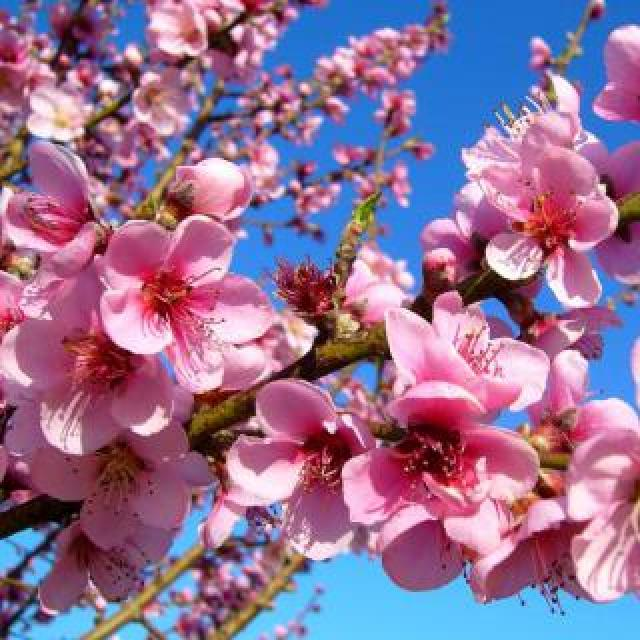peach: (6, 2, 640, 620)
